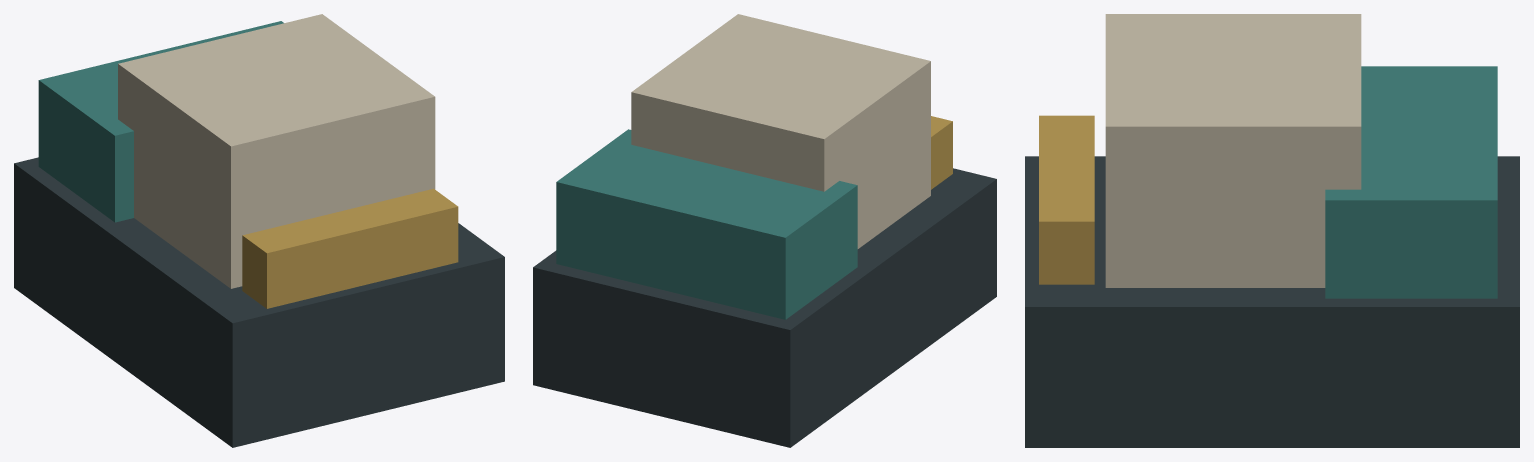
Rendered from pod-lod1.38c9966014da.glb.
The picture shows the model from 3 angles, left to right: view 1: azimuth 30°, elevation 25°; view 2: azimuth 150°, elevation 25°; view 3: azimuth 270°, elevation 25°; orthographic projection. The views are drawn at different scales.
Visible parts, largest first — view 1: body, cargo; view 2: body, cargo; view 3: body, cargo.
Part boxes in pixels (<box>): body: <box>14,21,504,447</box>; cargo: <box>118,14,435,288</box>; body: <box>533,116,996,447</box>; cargo: <box>631,14,930,248</box>; body: <box>1025,66,1519,447</box>; cargo: <box>1105,14,1361,287</box>.
Bounding box in the file's own units: 0.64 × 0.6 × 0.89.
